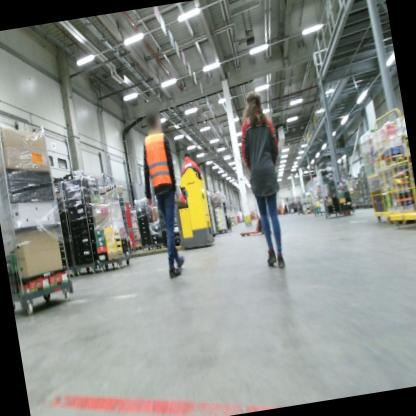pallet_truck: (102, 160, 217, 269), (231, 205, 273, 241)
